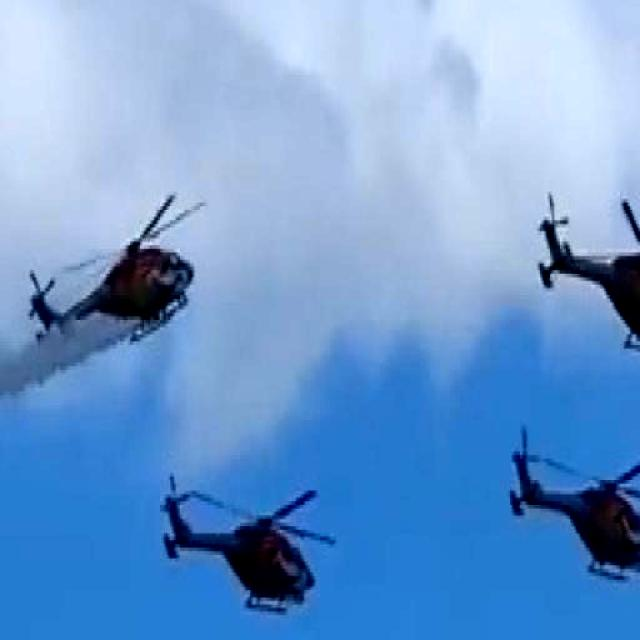drone: (138, 436, 339, 628), (24, 179, 200, 358), (484, 410, 640, 588), (524, 175, 640, 360)
